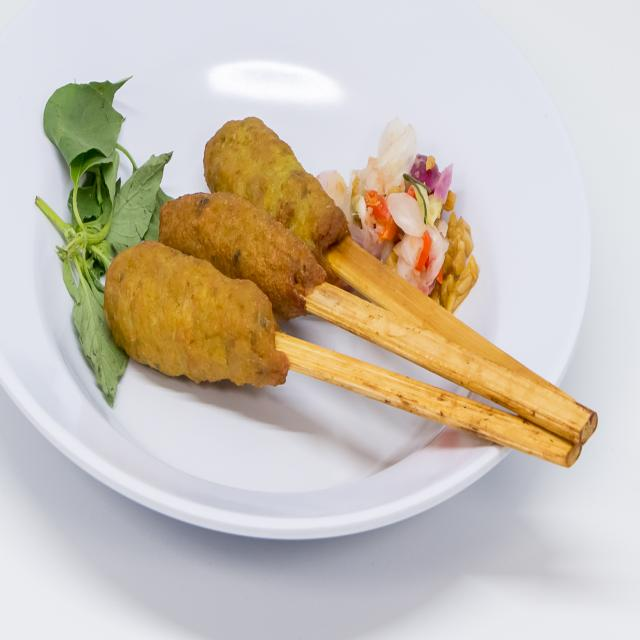Sate-Lilit: (62, 60, 476, 466)
